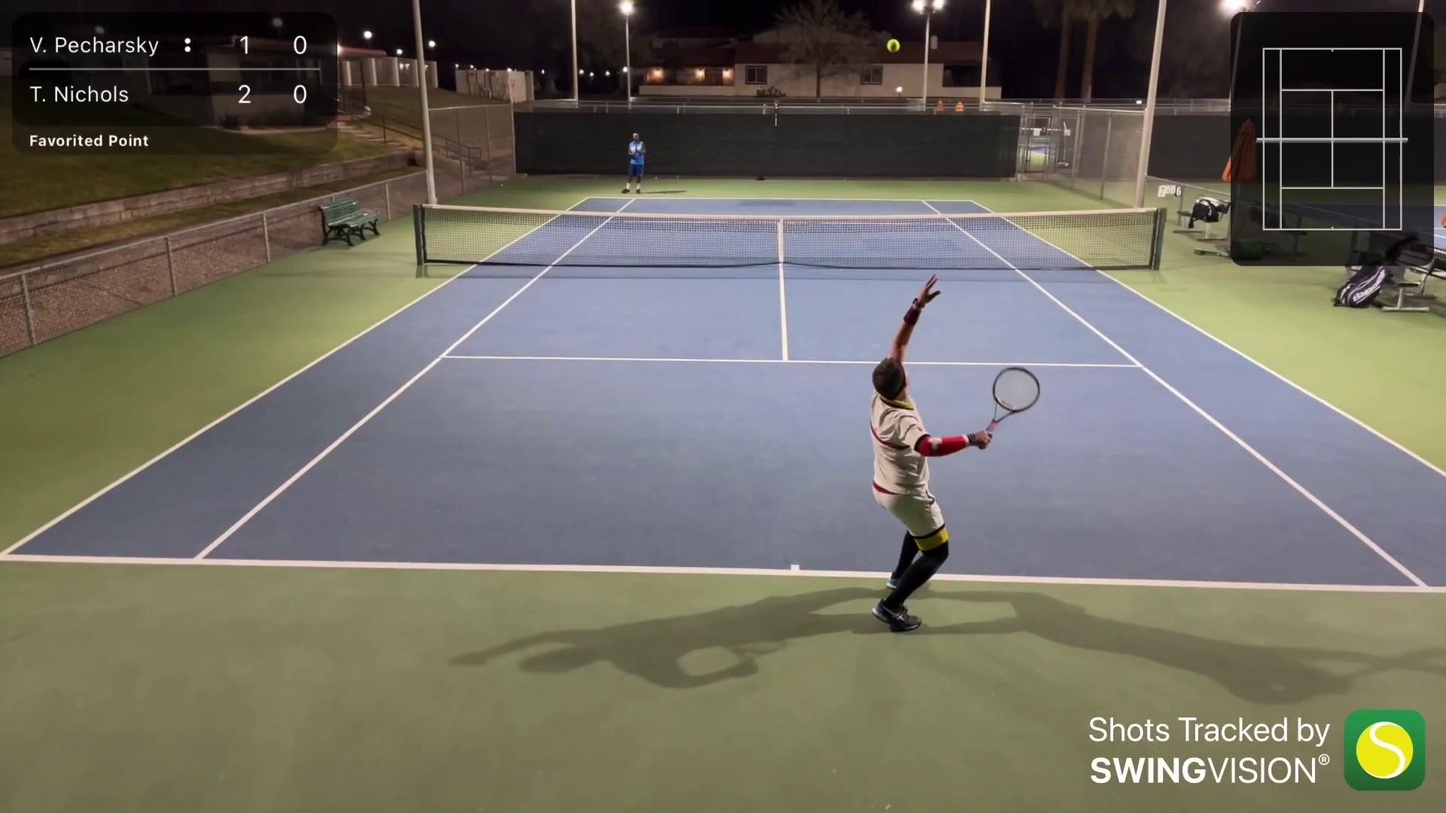ball: (886, 39, 902, 50)
